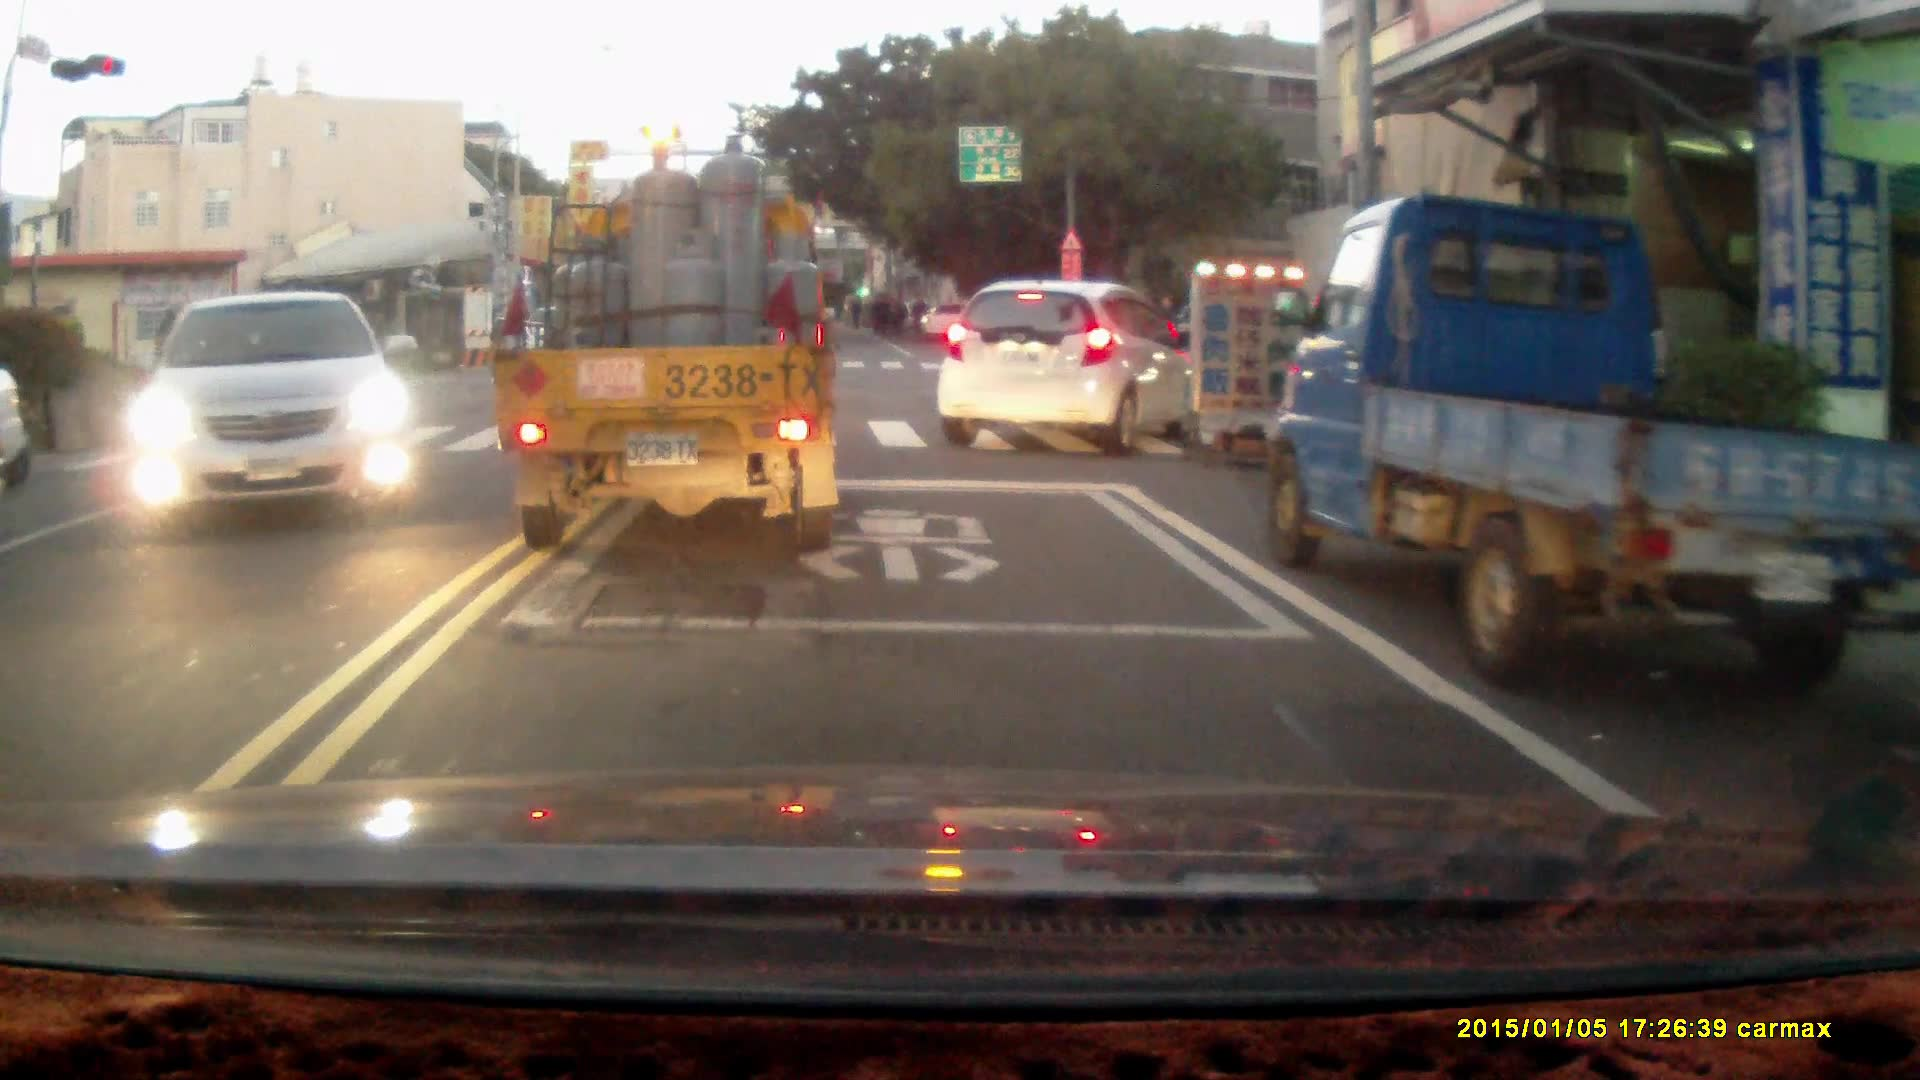vehicle: (1269, 186, 1913, 684), (504, 137, 847, 556), (127, 291, 422, 535), (934, 278, 1200, 462), (1, 363, 40, 506)
